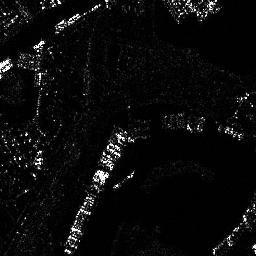ship: (113, 168, 136, 189)
